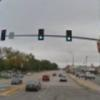cars: (12, 77, 22, 86), (59, 75, 68, 83)
traffic lights: (66, 29, 72, 43), (38, 28, 44, 42)
